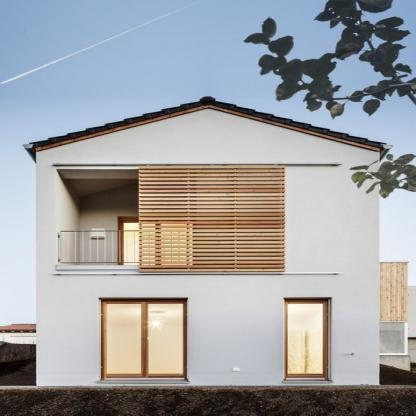Balcony: (57, 231, 197, 265)
Building Outline: (19, 95, 396, 387)
Door: (102, 301, 186, 378), (120, 219, 194, 270), (285, 300, 328, 378)
Facade: (19, 96, 396, 388)
Floor Slab: (37, 266, 381, 275)
Roof: (20, 96, 394, 164)
Window: (57, 170, 197, 266), (381, 324, 404, 354)
